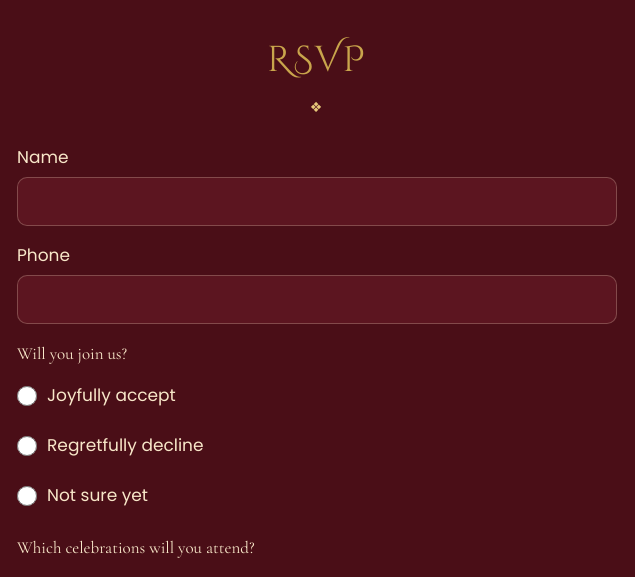
Scenario: RSVP section wiring › POSTs { slug, reply } to /api/rsvp on a live page with a slug
This screenshot has width=635, height=577.
(page scrolled)
Type "Sharma Parivar" into the field labelled "Name" at [317, 201], box 17,177 -> 617,226
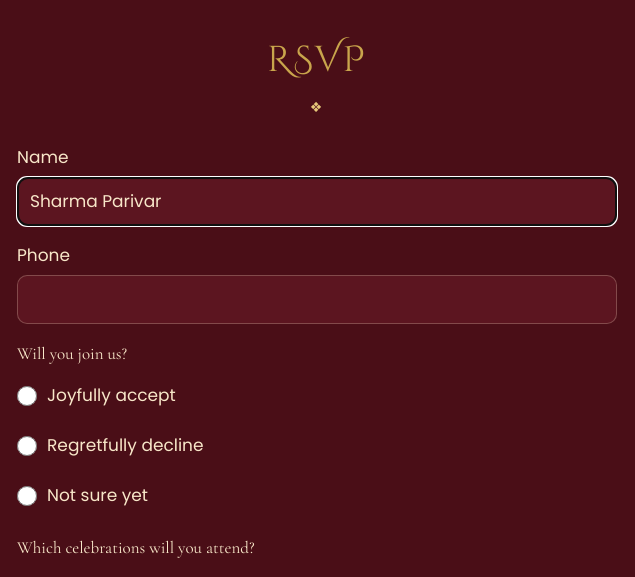
Type "9876543210" into the field labelled "Phone" at [317, 300], box 17,275 -> 617,324
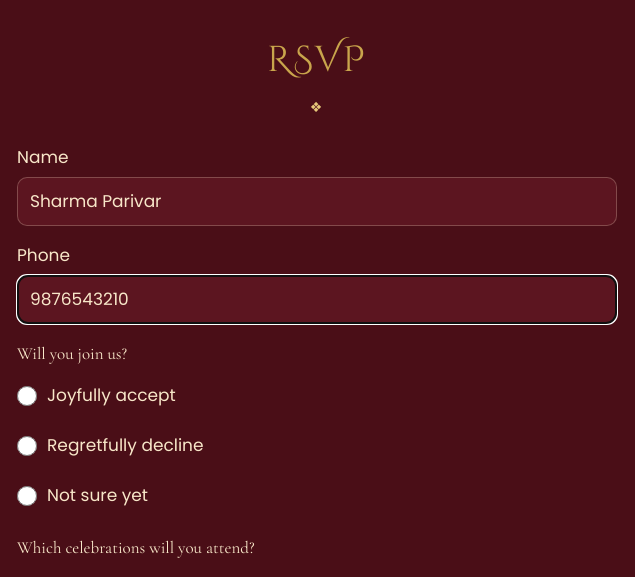
Click the radio button labelled "Not sure yet" at [27, 496], box 17,486 -> 37,506
(page scrolled)
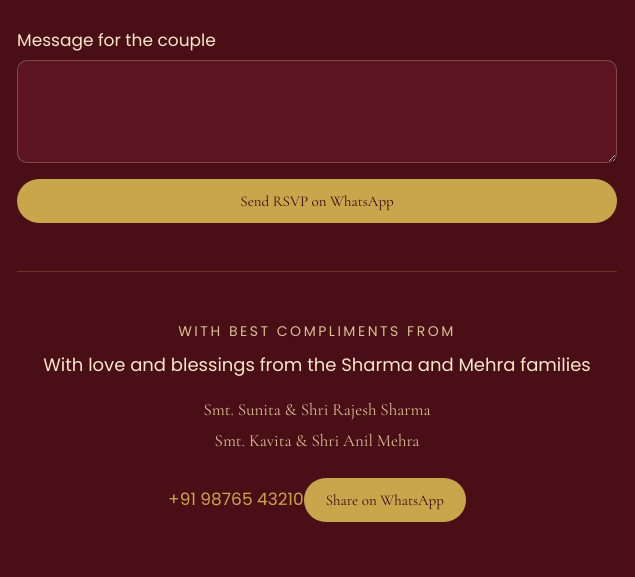
Click the button "Send RSVP on WhatsApp" at [317, 202], box 17,180 -> 617,224
(page scrolled)
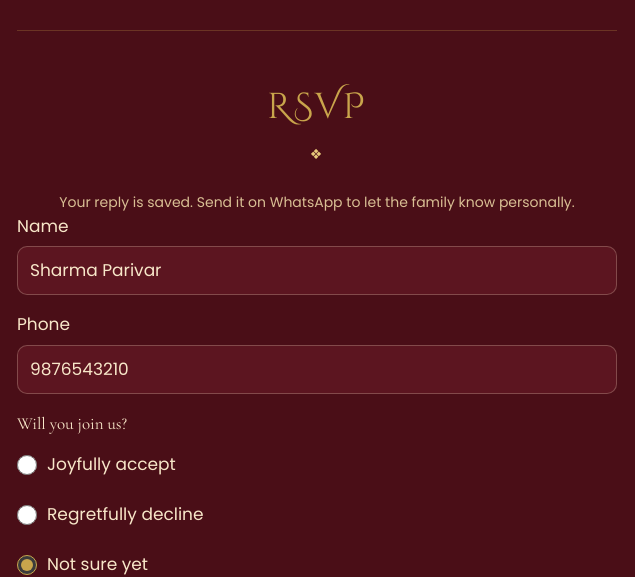
Result: the text "Your reply is saved. Send it on WhatsApp to let the family know personally." is shown at 17,191 -> 617,213
